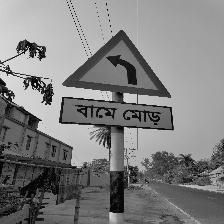Left-Turn: (60, 31, 174, 132)
